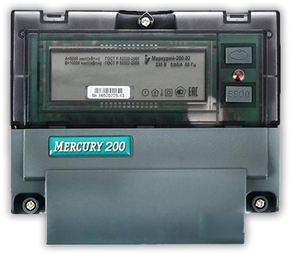counter: (12, 10, 281, 244)
counter_screen: (48, 47, 207, 104)
